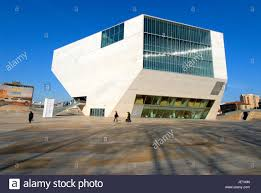musica: (51, 14, 228, 120)
